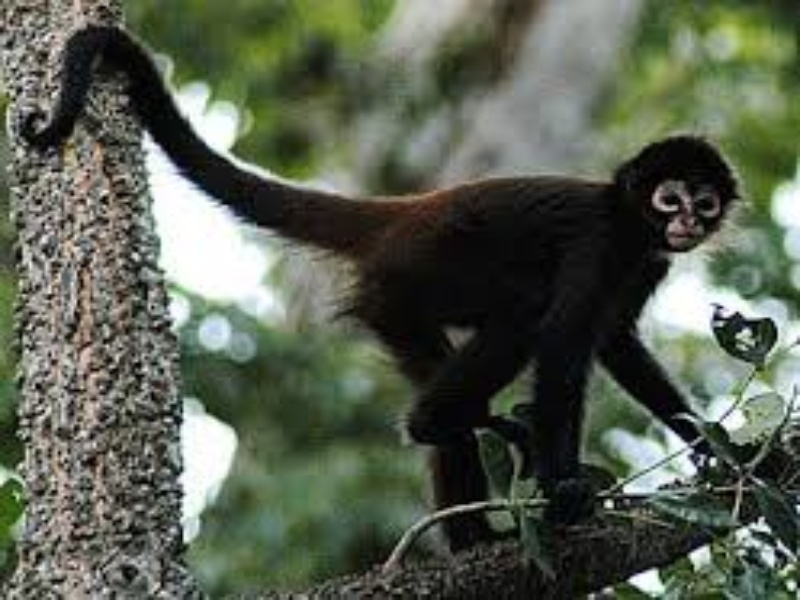monkey: (40, 30, 755, 532)
